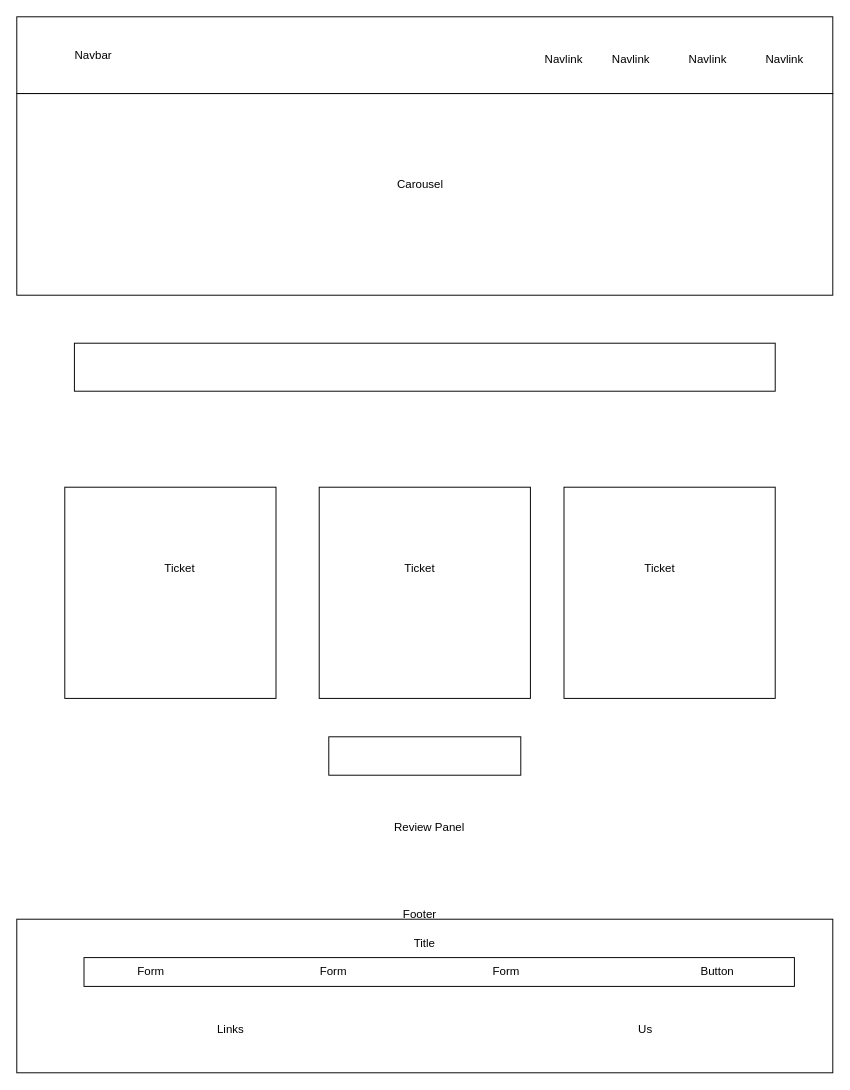
Image size: 850x1090. Some labels were removed from this diagram. The centre of each missing label's shape, as x and y in pixels:
"Overview" goes at point 424,366.
"Reviews" goes at point 424,755.
